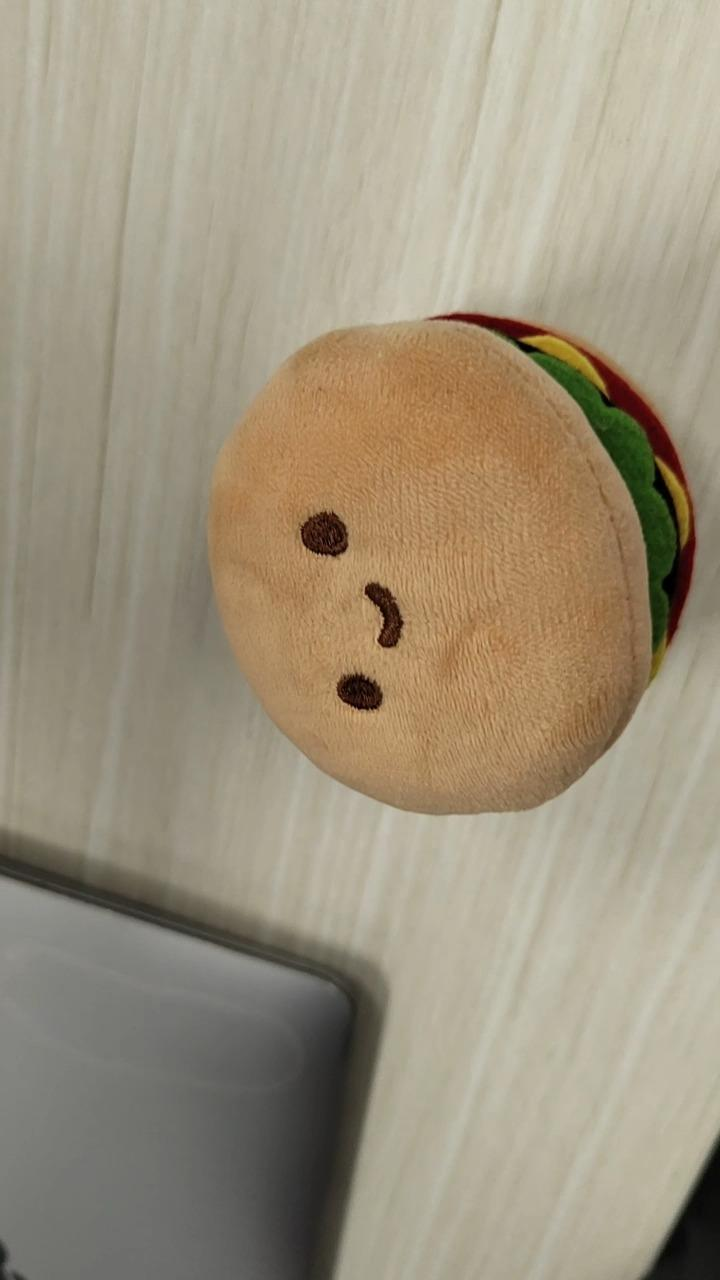hamburger: (204, 310, 697, 817)
